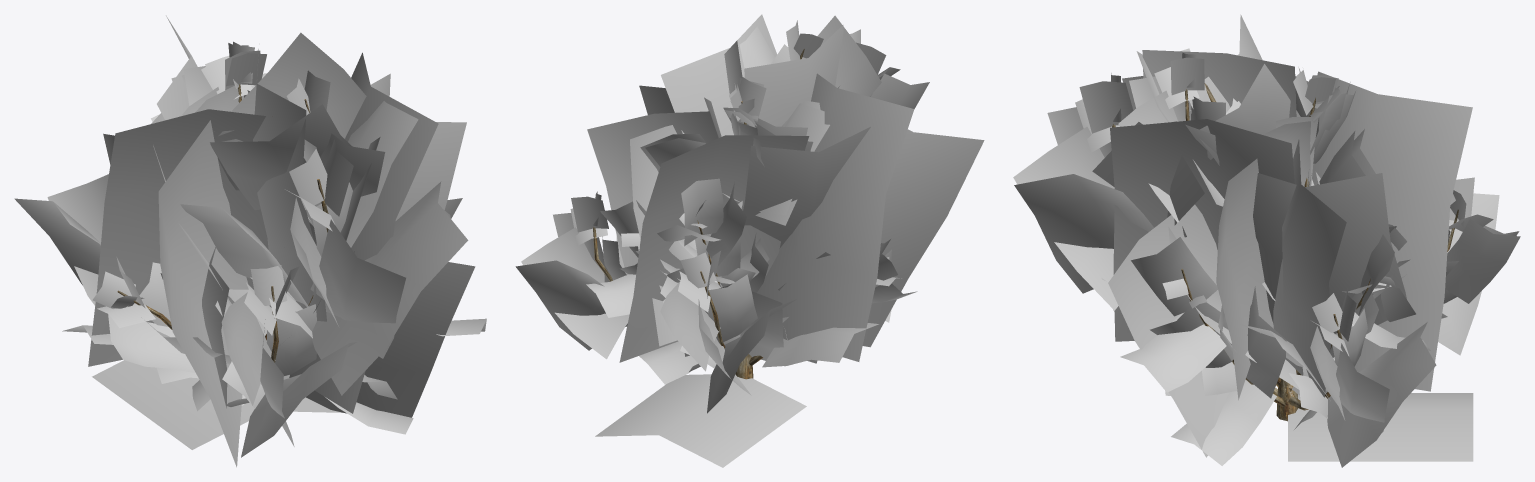
Rendered from DesertBush.FBX.
3 views of the same model, side by side, from view 1: azimuth 30°, elevation 25°; view 2: azimuth 150°, elevation 25°; view 3: azimuth 270°, elevation 25° (orthographic). The views are drawn at different scales.
Parts seen in each view (by area): view 1: DesertBush_LOD0, Object074; view 2: DesertBush_LOD0, Object074; view 3: DesertBush_LOD0, Object074.
Part boxes in pixels (<box>): DesertBush_LOD0: <box>14,15,486,467</box>; Object074: <box>92,360,343,449</box>; DesertBush_LOD0: <box>515,14,984,413</box>; Object074: <box>595,374,806,467</box>; DesertBush_LOD0: <box>1013,14,1520,467</box>; Object074: <box>1288,393,1473,461</box>.
Size of what is drawn, in the model's own units: 16.78 by 15.83 by 19.55.
